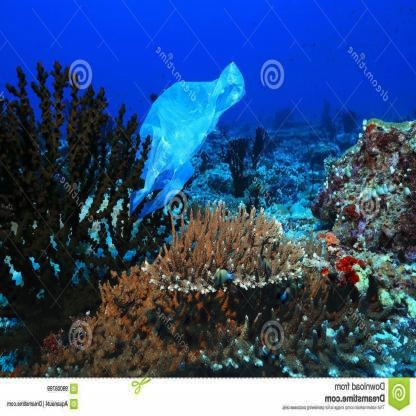pbag: (124, 57, 249, 220)
